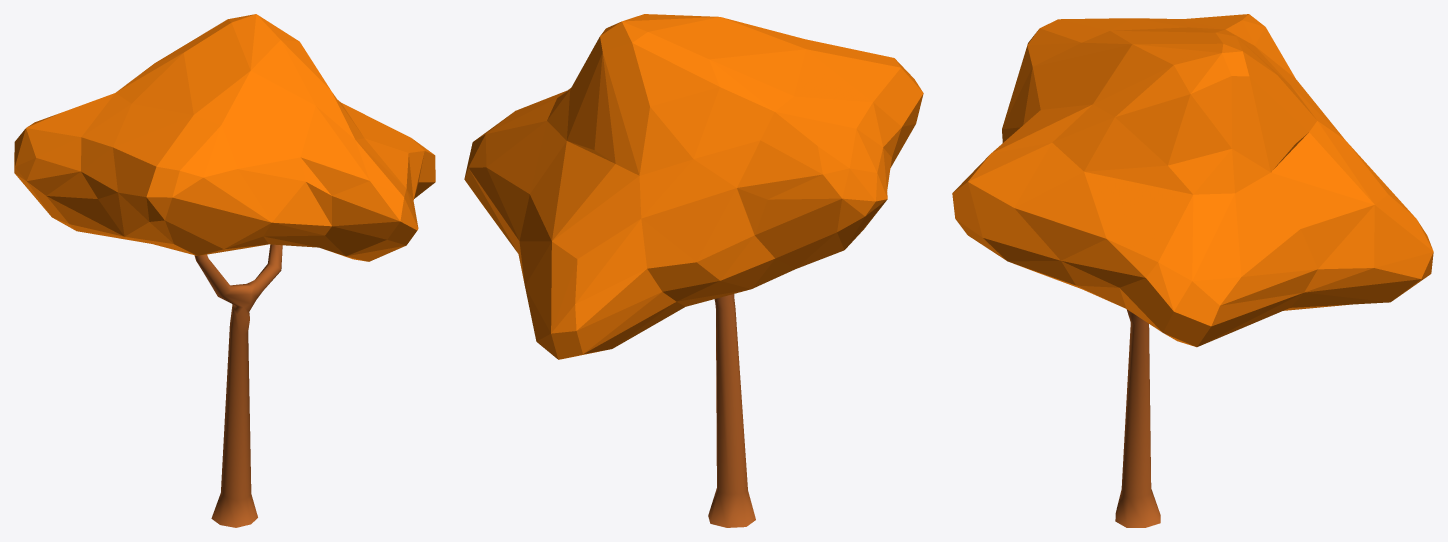
The model's file is Tree_26_Fall.fbx.
3 renders of one model, left to right at view 1: azimuth 30°, elevation 25°; view 2: azimuth 150°, elevation 25°; view 3: azimuth 270°, elevation 25°, orthographic. The views are drawn at different scales.
Visible parts, largest first — view 1: Tree_26_p2_Fall, Tree_26_p1_Fall; view 2: Tree_26_p2_Fall, Tree_26_p1_Fall; view 3: Tree_26_p2_Fall, Tree_26_p1_Fall.
Part boxes in pixels (left/top/right/bottom): Tree_26_p2_Fall: left=14, top=14, right=435, bottom=261; Tree_26_p1_Fall: left=194, top=244, right=282, bottom=527; Tree_26_p2_Fall: left=464, top=14, right=923, bottom=359; Tree_26_p1_Fall: left=708, top=294, right=755, bottom=527; Tree_26_p2_Fall: left=952, top=14, right=1433, bottom=347; Tree_26_p1_Fall: left=1115, top=309, right=1160, bottom=527.
Bounding box in the file's own units: 527 × 592 × 520.
